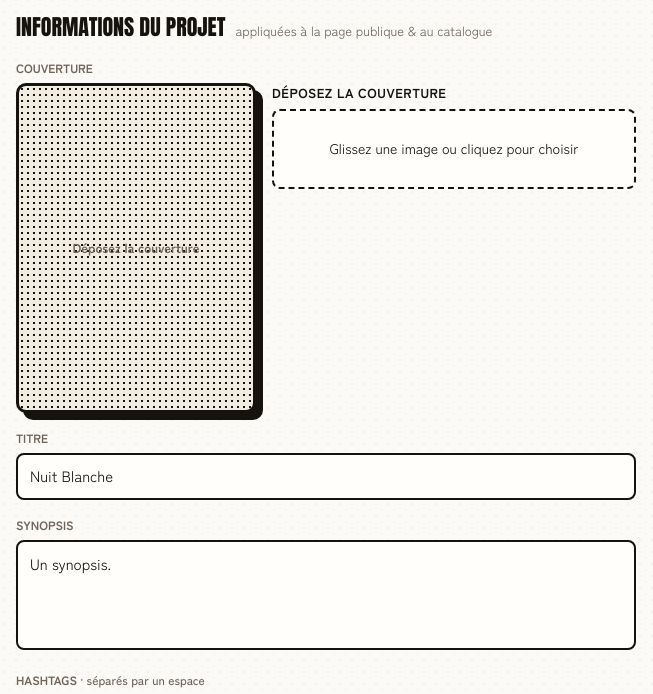
Test: InfosPanel › blocks the save and shows an alert when the title is emptied
The width and height of the screenshot is (653, 694).
Step 1. Clear the field labelled "TITRE" → (326, 476), box [16, 453, 636, 500]
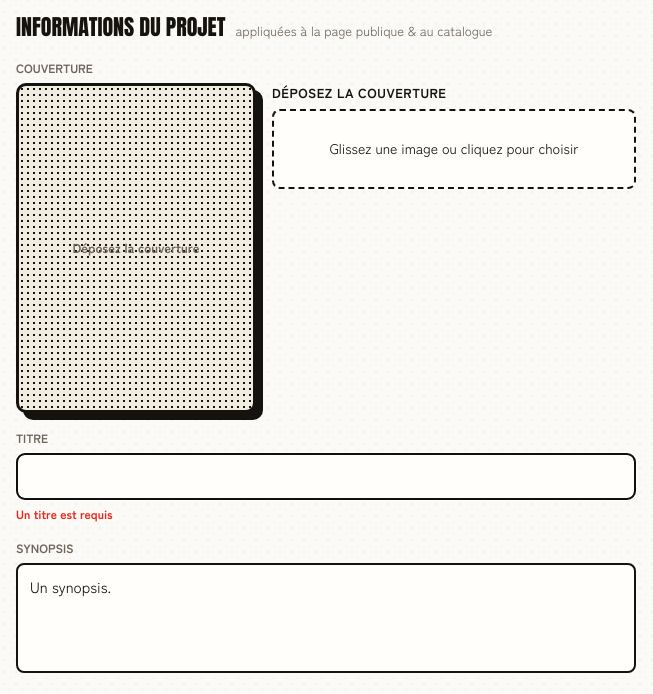
Now the message reads "Un titre est requis", box [16, 504, 113, 522]
